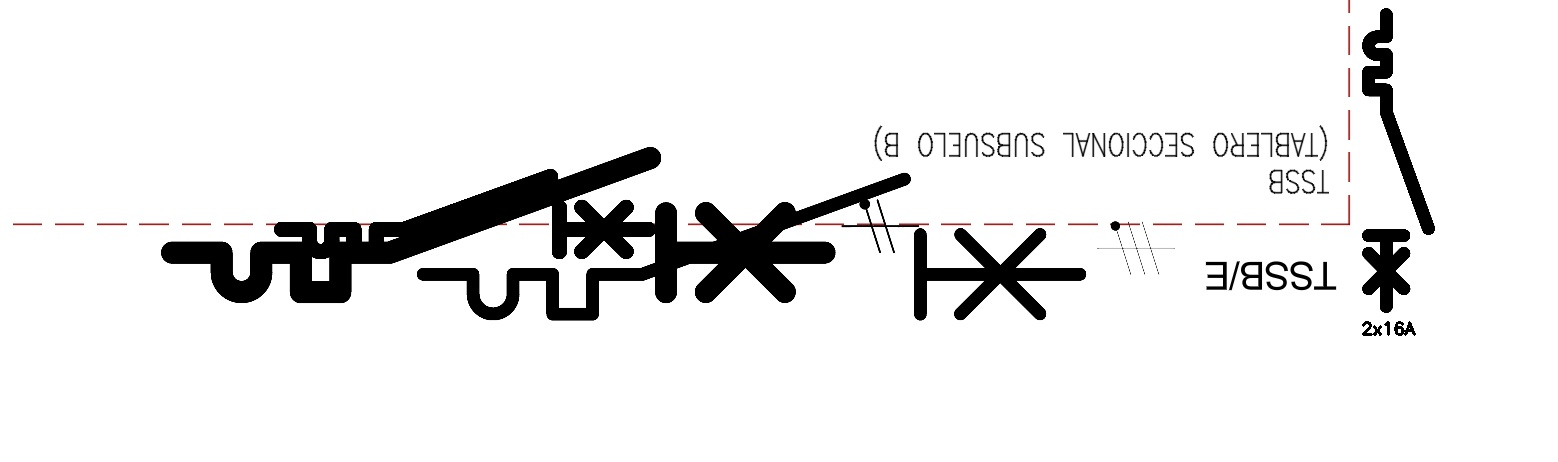interruptor_termomagnetico: (406, 162, 1097, 331), (155, 141, 841, 309), (272, 167, 658, 261), (1361, 7, 1436, 314)
